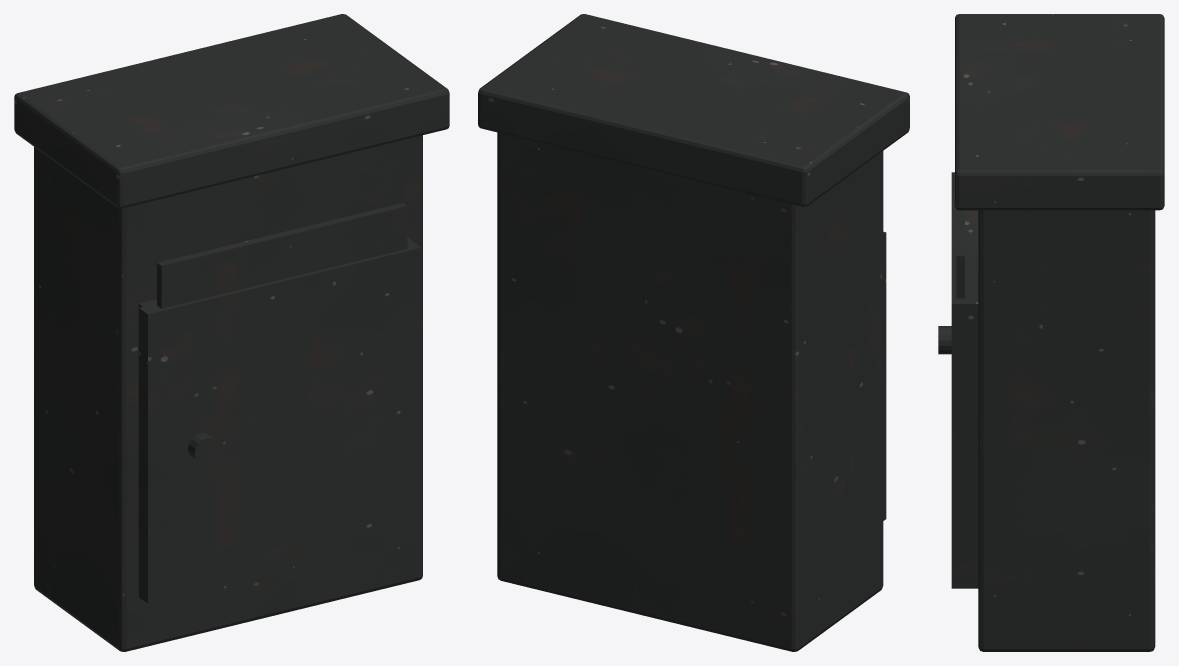
Rendered from ctl_dropbox.glb.
The picture shows the model from 3 angles, left to right: view 1: azimuth 30°, elevation 25°; view 2: azimuth 150°, elevation 25°; view 3: azimuth 270°, elevation 25°; orthographic projection.
Parts seen in each view (by area): view 1: CTL_DropBox_Body, CTL_DropBox_Door, CTL_DropBox_Lid, CTL_DropBox_LogoSurface, CTL_DropBox_HingeLine, CTL_DropBox_Lock; view 2: CTL_DropBox_Body, CTL_DropBox_Lid, CTL_DropBox_HingeLine; view 3: CTL_DropBox_Body, CTL_DropBox_Lid, CTL_DropBox_Door, CTL_DropBox_LogoSurface, CTL_DropBox_Lock.
Boxes of the visible parts, bbox=[...] form: CTL_DropBox_Body: bbox=[34, 135, 422, 651]; CTL_DropBox_Door: bbox=[138, 238, 421, 601]; CTL_DropBox_Lid: bbox=[14, 14, 449, 208]; CTL_DropBox_LogoSurface: bbox=[157, 203, 407, 308]; CTL_DropBox_HingeLine: bbox=[139, 307, 156, 603]; CTL_DropBox_Lock: bbox=[188, 433, 219, 464]; CTL_DropBox_Body: bbox=[497, 132, 883, 651]; CTL_DropBox_Lid: bbox=[478, 14, 909, 206]; CTL_DropBox_HingeLine: bbox=[883, 231, 886, 520]; CTL_DropBox_Body: bbox=[978, 210, 1155, 651]; CTL_DropBox_Lid: bbox=[955, 14, 1164, 210]; CTL_DropBox_Door: bbox=[951, 176, 978, 588]; CTL_DropBox_LogoSurface: bbox=[956, 209, 964, 298]; CTL_DropBox_Lock: bbox=[938, 326, 951, 354].
Size of the model in its own units: 0.427 by 0.61 by 0.2555.
1 material, 1 textured.
